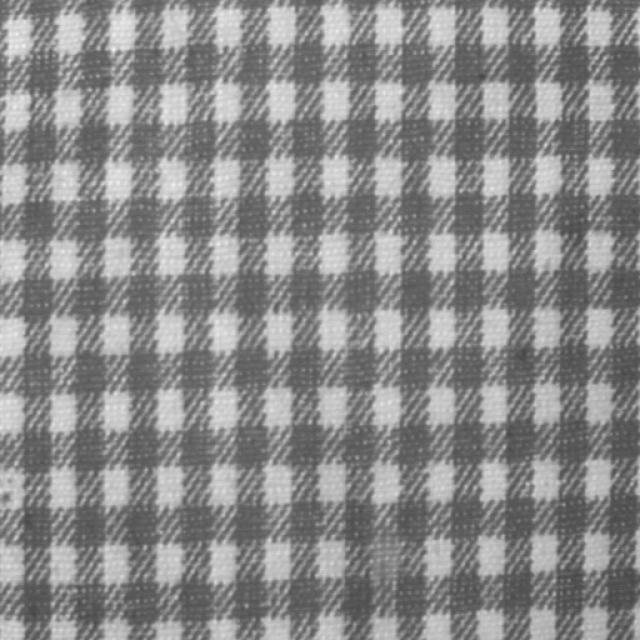Stain-Defect: (370, 538, 400, 589)
